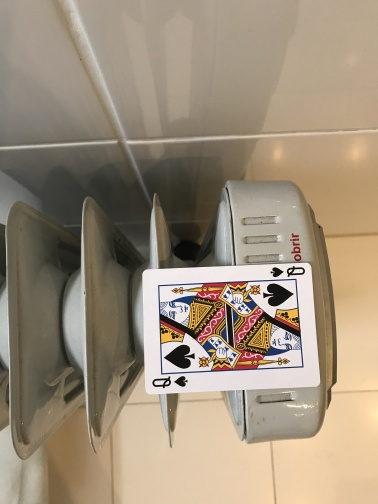queen: (142, 263, 321, 395)
